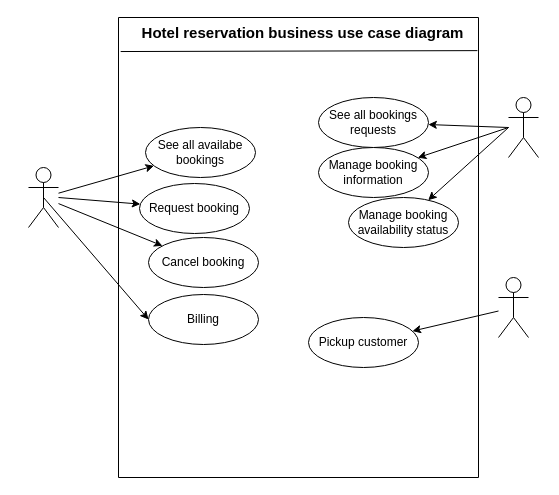
The diagram is 559 pixels wide and 495 high, and some of its shapes have lost their labels. Each missing label, with the centre of its shape:
Agent: (x=523, y=127)
Cab Driver: (x=513, y=307)
Customer: (x=43, y=197)
